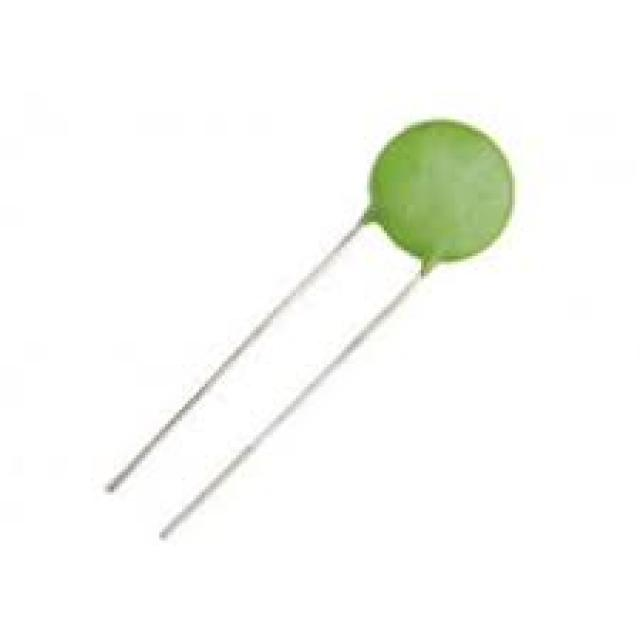Capacitor: (361, 119, 518, 279)
